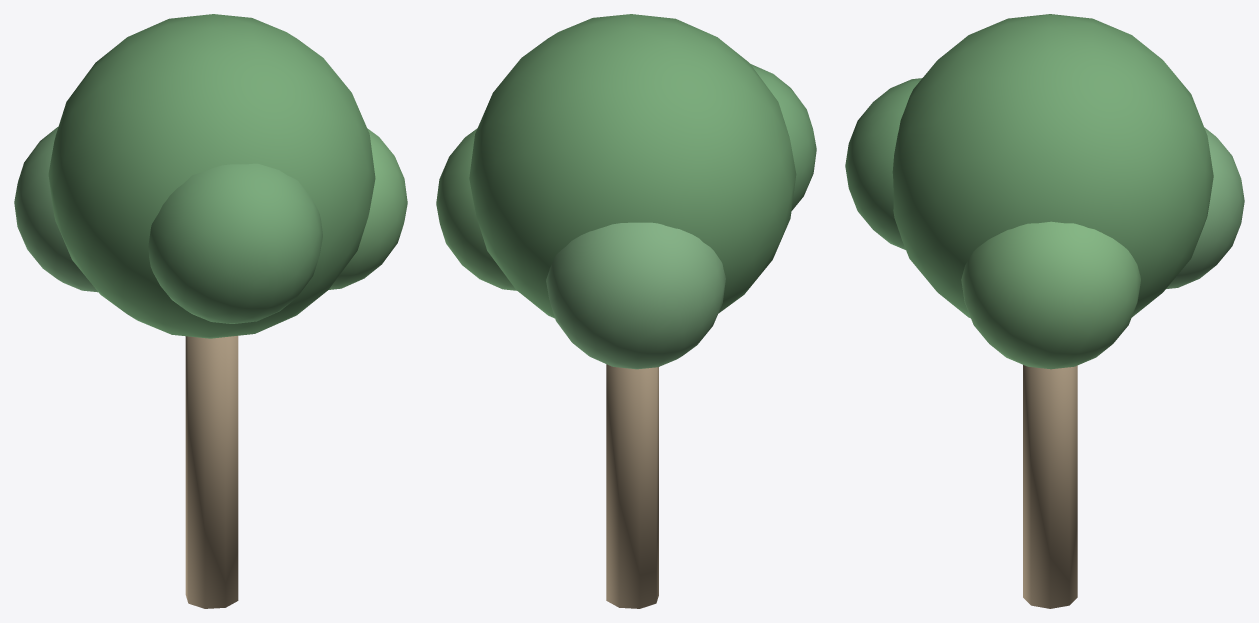
The model's file is plant_tree_apple_summer.glb.
The picture shows the model from 3 angles, left to right: view 1: azimuth 30°, elevation 25°; view 2: azimuth 150°, elevation 25°; view 3: azimuth 270°, elevation 25°; orthographic projection.
Visible parts, largest first — view 1: crown_main, crown_sub1, trunk, crown_sub2, crown_sub0; view 2: crown_main, crown_sub2, trunk, crown_sub0, crown_sub1; view 3: crown_main, crown_sub0, trunk, crown_sub1, crown_sub2.
Boxes of the visible parts, x1,y1,x2,y2 form: crown_main: [48, 14, 375, 338]; crown_sub1: [148, 163, 322, 323]; trunk: [185, 336, 238, 608]; crown_sub2: [14, 127, 97, 292]; crown_sub0: [329, 128, 407, 289]; crown_main: [469, 14, 796, 318]; crown_sub2: [546, 222, 725, 369]; trunk: [606, 364, 658, 608]; crown_sub0: [436, 128, 516, 290]; crown_sub1: [750, 64, 816, 210]; crown_main: [892, 14, 1213, 318]; crown_sub0: [961, 221, 1140, 369]; trunk: [1023, 365, 1077, 608]; crown_sub1: [845, 78, 922, 249]; crown_sub2: [1166, 127, 1244, 288].
Bounding box in the file's own units: 0.966 × 1.61 × 1.03.
